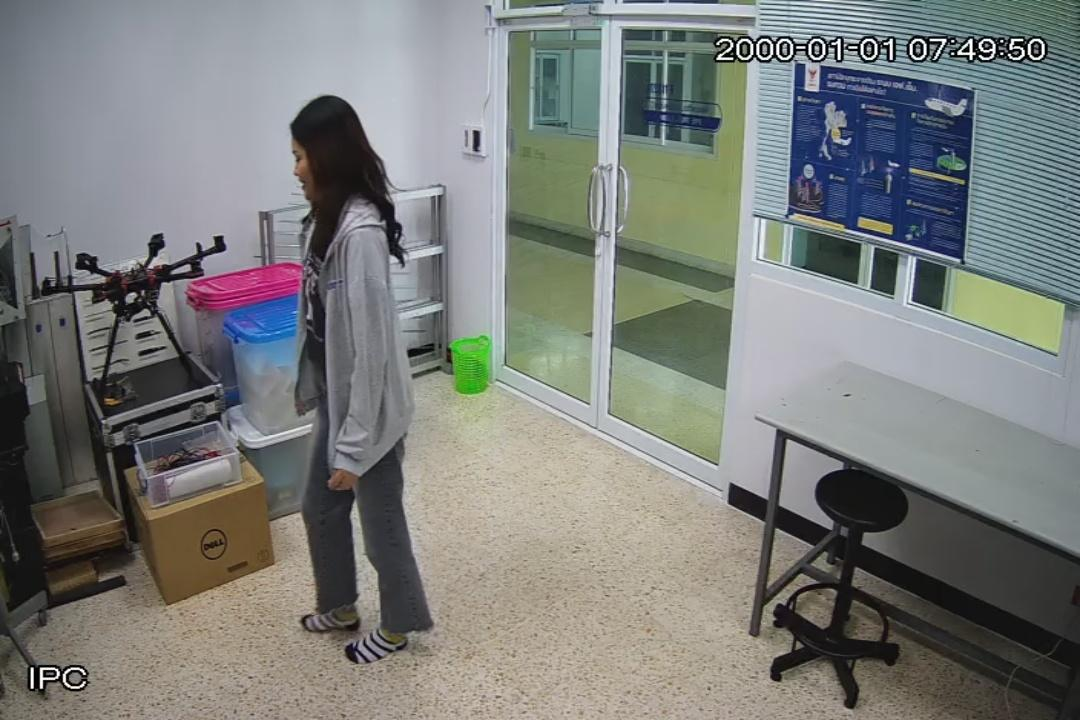normal: (280, 92, 433, 684)
